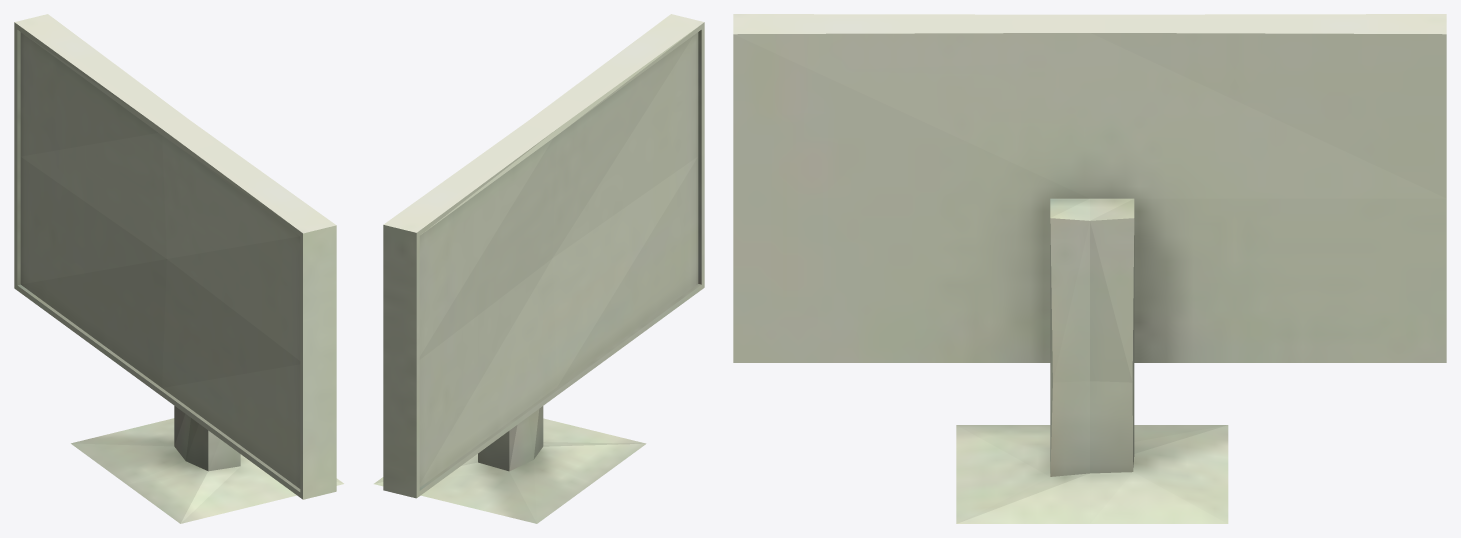
File: Monitor.fbx
3 renders of one model, left to right at view 1: azimuth 30°, elevation 25°; view 2: azimuth 150°, elevation 25°; view 3: azimuth 270°, elevation 25°, orthographic. The views are drawn at different scales.
Parts seen in each view (by area): view 1: Monitor; view 2: Monitor; view 3: Monitor.
Part boxes in pixels (bbox=[...]): Monitor: bbox=[14, 14, 343, 523]; Monitor: bbox=[374, 14, 704, 523]; Monitor: bbox=[733, 14, 1446, 523].
Size of the model in its own units: 42.42 by 86.13 by 129.
